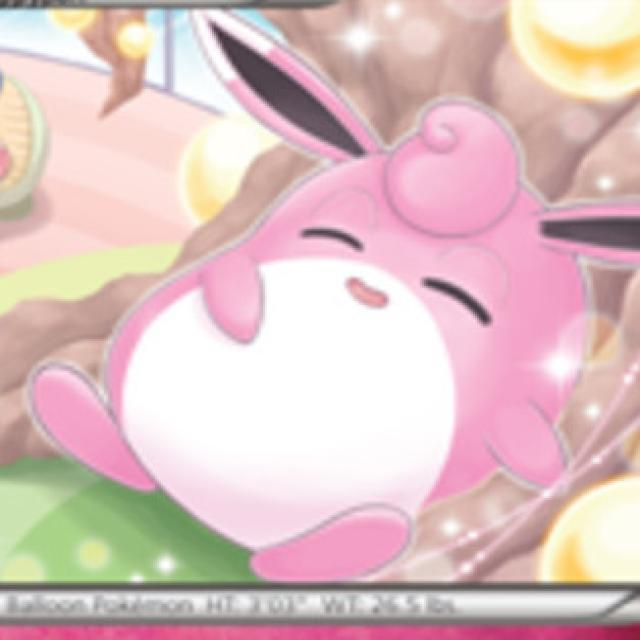Wigglytuff: (55, 48, 640, 590)
